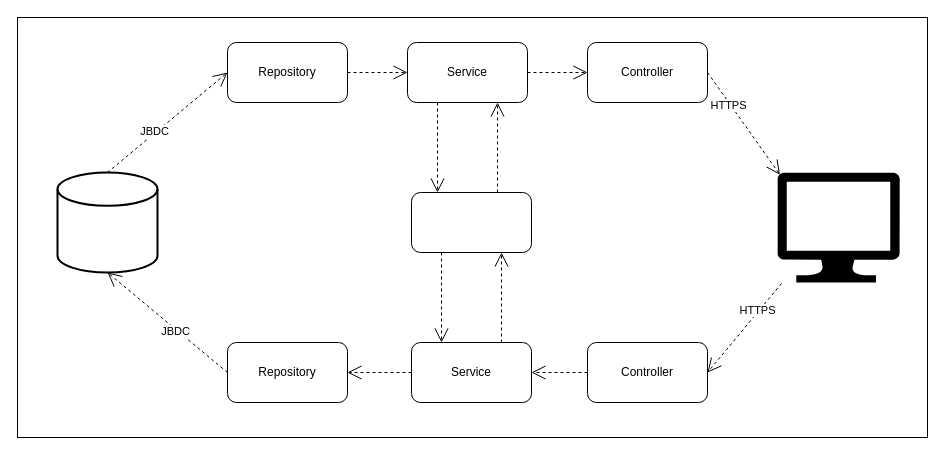
This 945x455 diagram has some shape labels left out. Here are the shapes that lost their labels. From the top down, the centre of each, then its label:
the point at 107,222: Datenbank
the point at 471,222: Zu DTO umwandeln
the point at 838,227: Frontend
